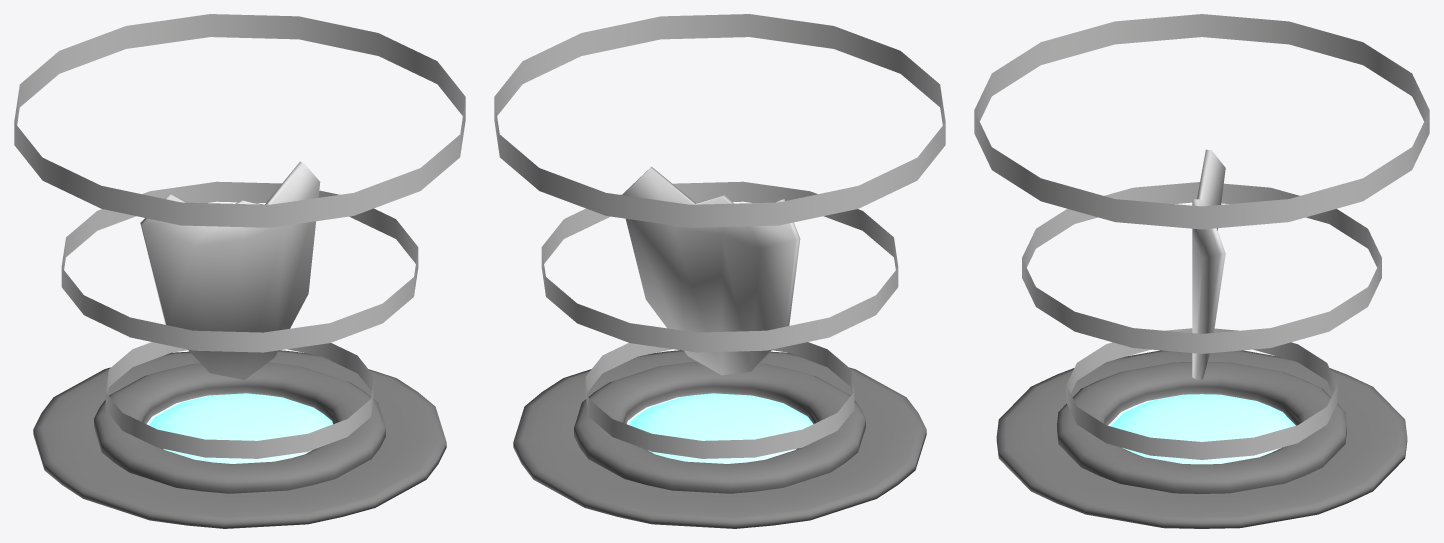
Rendered from Energize.fbx.
3 views of the same model, side by side, from view 1: azimuth 30°, elevation 25°; view 2: azimuth 150°, elevation 25°; view 3: azimuth 270°, elevation 25° (orthographic).
Visible parts, largest first — view 1: Cylinder.008, Cylinder.009, Plane.002, Cylinder.011, Cylinder.010; view 2: Cylinder.008, Cylinder.009, Plane.002, Cylinder.011, Cylinder.010; view 3: Cylinder.008, Cylinder.009, Cylinder.011, Cylinder.010, Plane.002.
Boxes of the visible parts, x1=… form: Cylinder.008: x1=33, y1=350, x2=446, y2=528; Cylinder.009: x1=14, y1=14, x2=465, y2=227; Plane.002: x1=140, y1=161, x2=320, y2=380; Cylinder.011: x1=61, y1=181, x2=418, y2=352; Cylinder.010: x1=105, y1=342, x2=374, y2=458; Cylinder.008: x1=513, y1=350, x2=926, y2=528; Cylinder.009: x1=494, y1=14, x2=945, y2=227; Plane.002: x1=622, y1=166, x2=800, y2=375; Cylinder.011: x1=541, y1=181, x2=898, y2=352; Cylinder.010: x1=585, y1=342, x2=854, y2=458; Cylinder.008: x1=996, y1=350, x2=1407, y2=528; Cylinder.009: x1=974, y1=14, x2=1429, y2=229; Cylinder.011: x1=1022, y1=182, x2=1381, y2=353; Cylinder.010: x1=1066, y1=328, x2=1337, y2=459; Plane.002: x1=1192, y1=149, x2=1225, y2=379.
Size of the model in its own units: 588 by 478 by 588.
